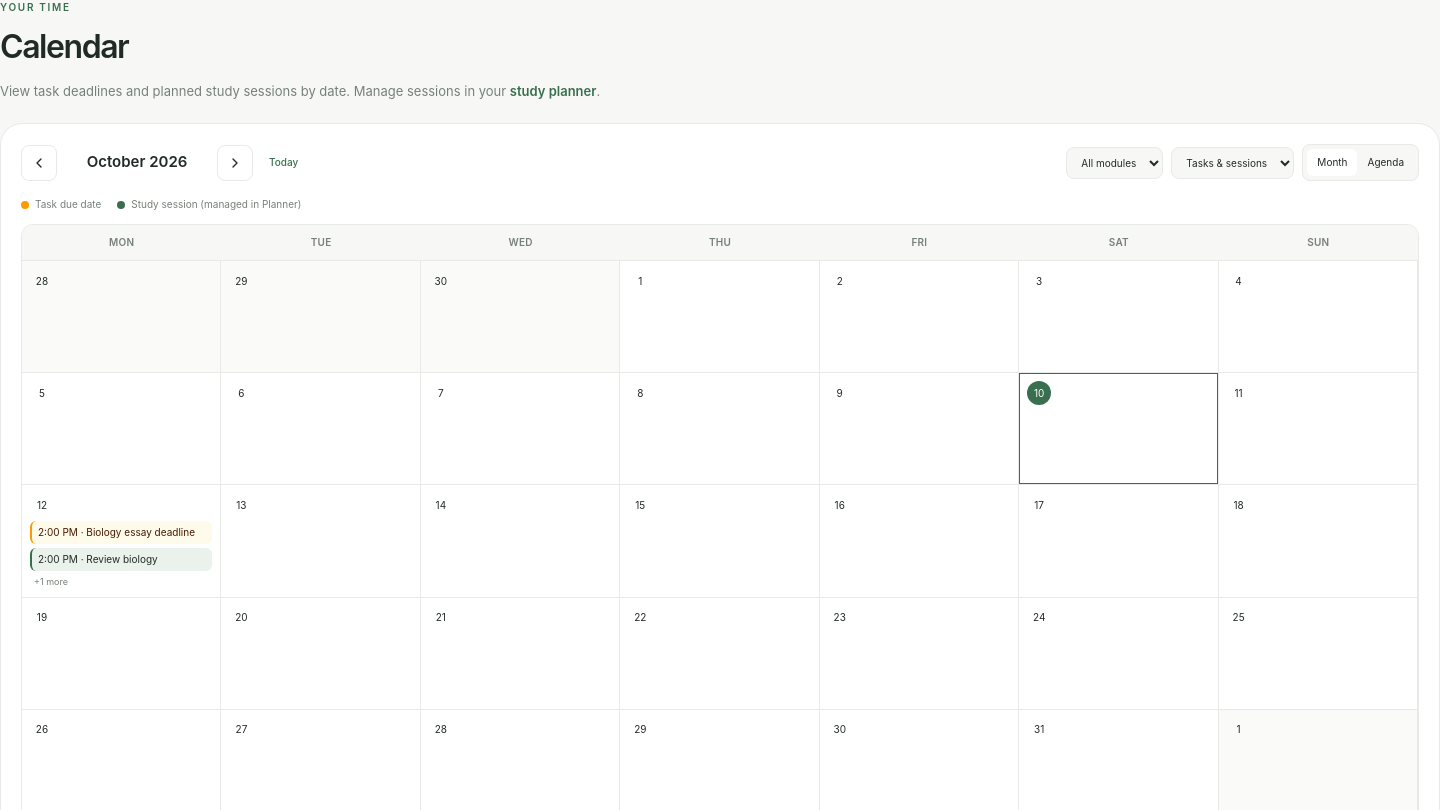
Test case: CalendarPage › shows tasks and sessions in the selected-day agenda and links each item to its source area
The image size is (1440, 810).
Expected: the heading "Calendar" is shown, [0,27,128,66]
Click the button "12".
click(42, 505)  # box [30,493,54,517]
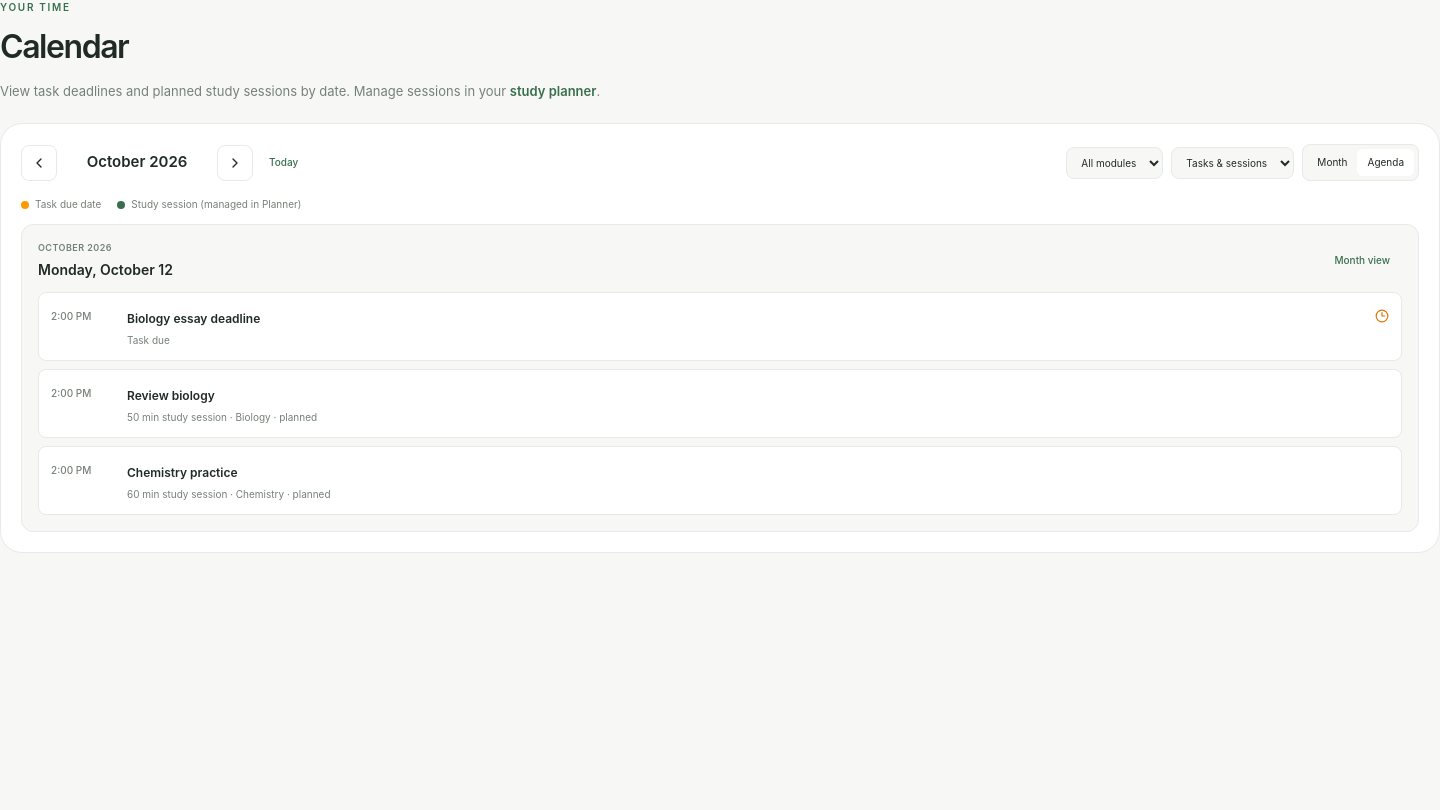
Select "Biology" in the 1st dropdown named "Filter by module" at {"x": 1115, "y": 162}, box [1066,146,1163,178]
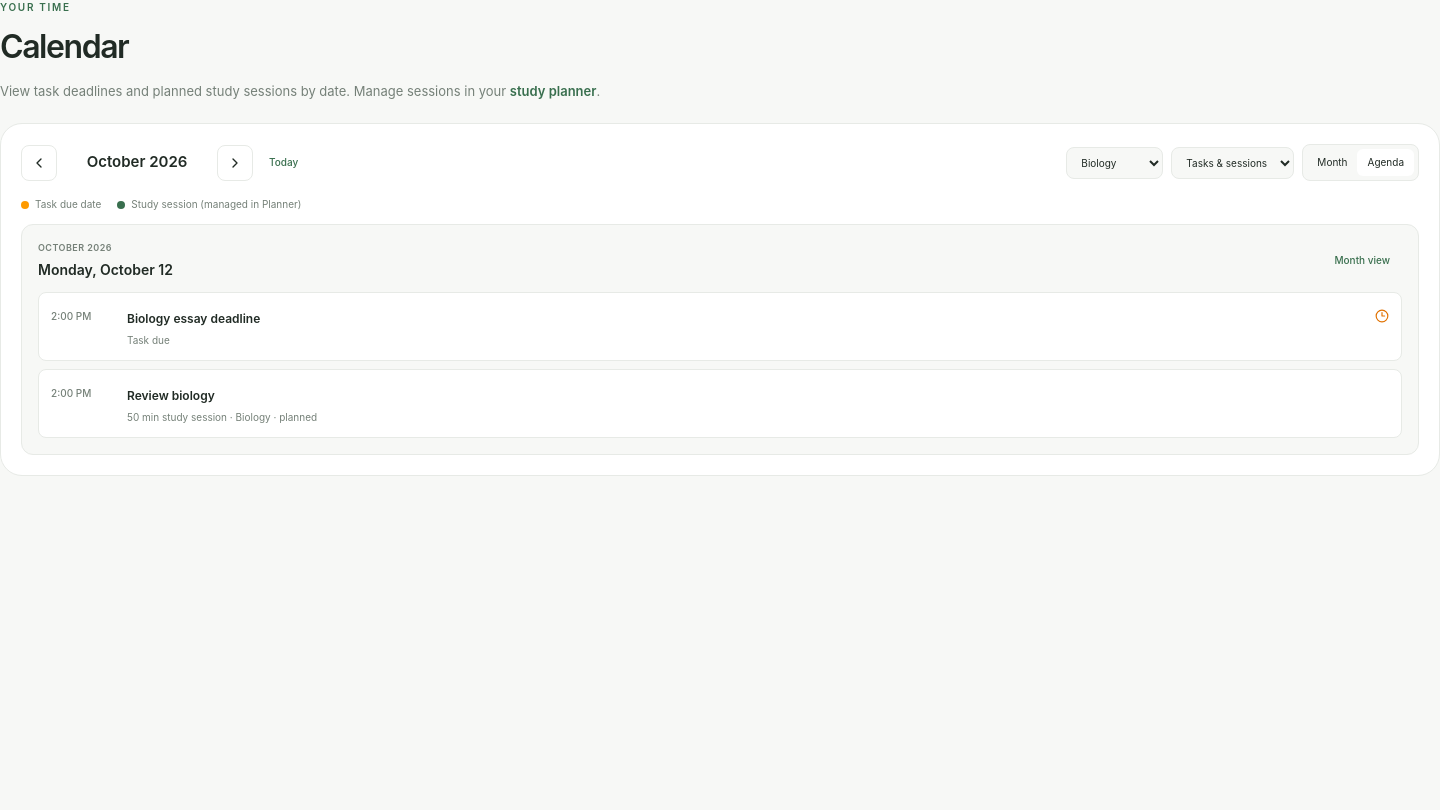
Expected: the link "Review biology" is shown, [127,388,215,402]
Result: the link "Chemistry practice" is gone
Select "Sessions only" in the 2nd dropdown named "Filter by item type" at {"x": 1233, "y": 162}, box [1171,146,1294,178]
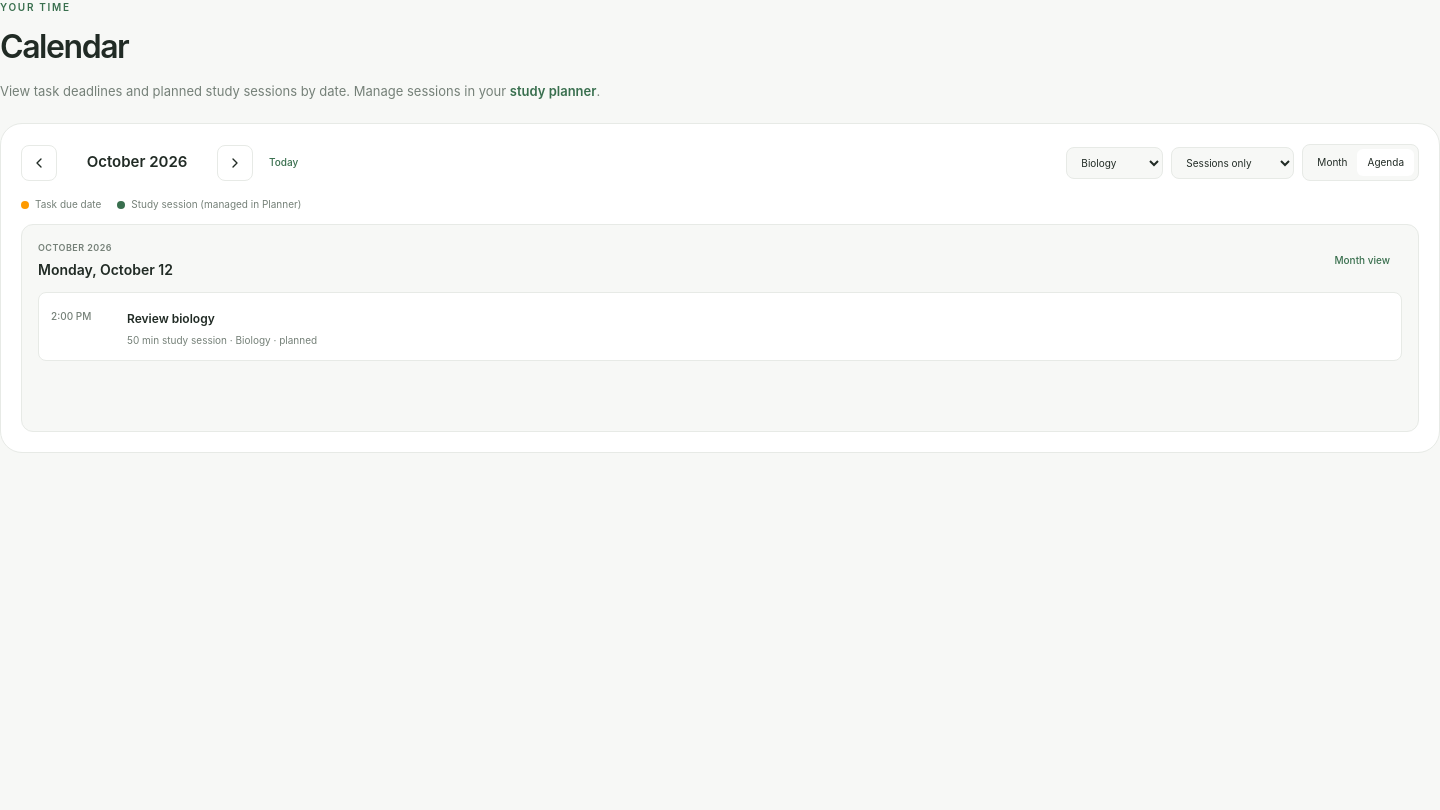
Result: the link "Biology essay deadline" is gone
